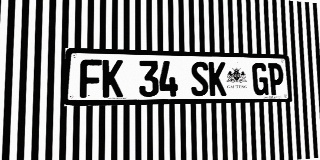3: (139, 60, 159, 97)
4: (159, 61, 178, 97)
F: (80, 59, 102, 98)
G: (252, 63, 269, 95)
K: (102, 59, 123, 97), (209, 62, 226, 96)
P: (268, 63, 284, 95)
S: (191, 61, 209, 96)
